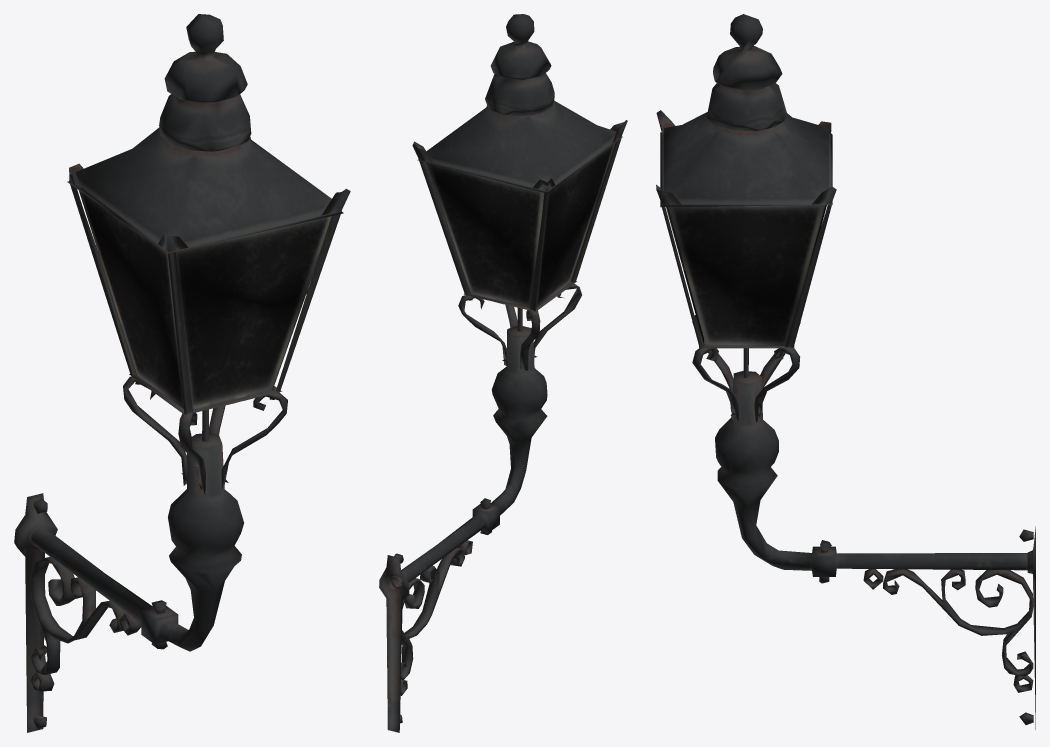
File: street_lamp_wall.glb
The picture shows the model from 3 angles, left to right: view 1: azimuth 30°, elevation 25°; view 2: azimuth 150°, elevation 25°; view 3: azimuth 270°, elevation 25°; orthographic projection. The views are drawn at different scales.
Parts seen in each view (by area): view 1: street_lamp_02; view 2: street_lamp_02; view 3: street_lamp_02.
Boxes of the visible parts, left/top/right/bottom form: street_lamp_02: left=14, top=14, right=350, bottom=732; street_lamp_02: left=379, top=14, right=627, bottom=732; street_lamp_02: left=656, top=14, right=1035, bottom=729.
Bounding box in the file's own units: 0.3836 × 1.67 × 0.8053.
2 materials, 2 textured.
